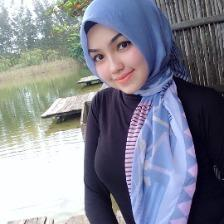Non Syar-i: (78, 1, 199, 224)
